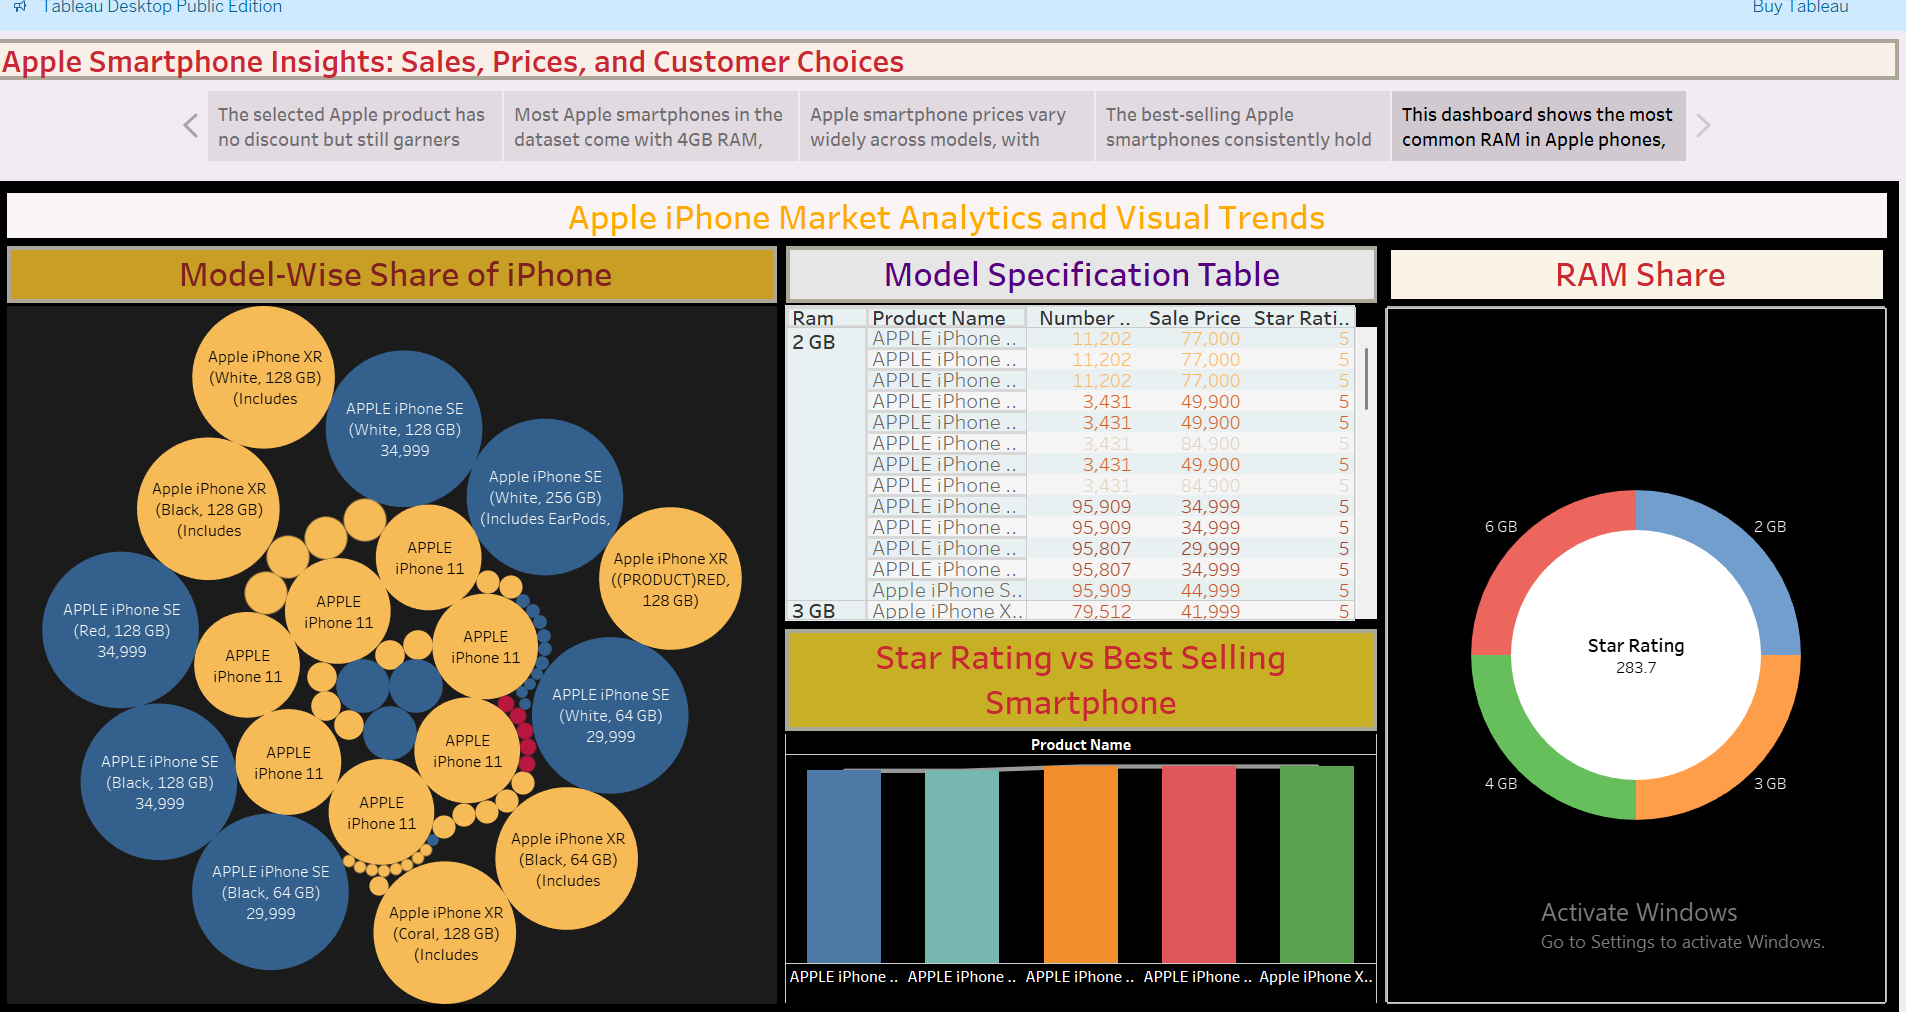

What the dashboard file says about the page in this screenshot:
{"tool":"tableau","page":{"name":"Apple iPhone Market Analytics and Visual Trends","canvas":[1000,1000],"units":"permille","ordinal":0},"visuals":[{"type":"title","box":[4.8,10,990.3,66.2]},{"type":"worksheet","title":" Model-Wise Share of iPhone","mark":"Circle","box":[4.8,76.2,407.9,913.9]},{"type":"worksheet","title":"Model Specification Table","mark":"Automatic","rows":["Ram","Product Name"],"box":[412.7,76.2,314.9,456.9]},{"type":"worksheet","title":" RAM Share","mark":"Pie","rows":["Calculation_1583015294090133504","Calculation_1583015294090133504"],"box":[727.6,76.2,267.5,913.9]},{"type":"worksheet","title":"Star Rating vs Best Selling Smartphone","mark":"Automatic","rows":["Star Rating","Star Rating"],"cols":["Product Name"],"box":[412.7,533.1,314.9,456.9]}]}

Visuals, with their boxes on the dashboard's canvas, which has no fixed pixel size, in thousandths of its width and height (x1, y1, x2, y2). These are canvas units, not pixel positions in the 1906x1012 screenshot, which may show the page scaled, cropped or inside an application window:
title: pyautogui.locateOnScreen(5, 10, 995, 76)
" Model-Wise Share of iPhone" worksheet (Circle marks): pyautogui.locateOnScreen(5, 76, 413, 990)
"Model Specification Table" worksheet: pyautogui.locateOnScreen(413, 76, 728, 533)
" RAM Share" worksheet (Pie marks): pyautogui.locateOnScreen(728, 76, 995, 990)
"Star Rating vs Best Selling Smartphone" worksheet: pyautogui.locateOnScreen(413, 533, 728, 990)
